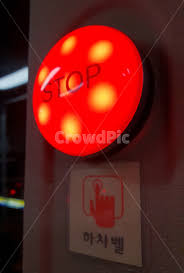bell: (30, 23, 153, 161)
